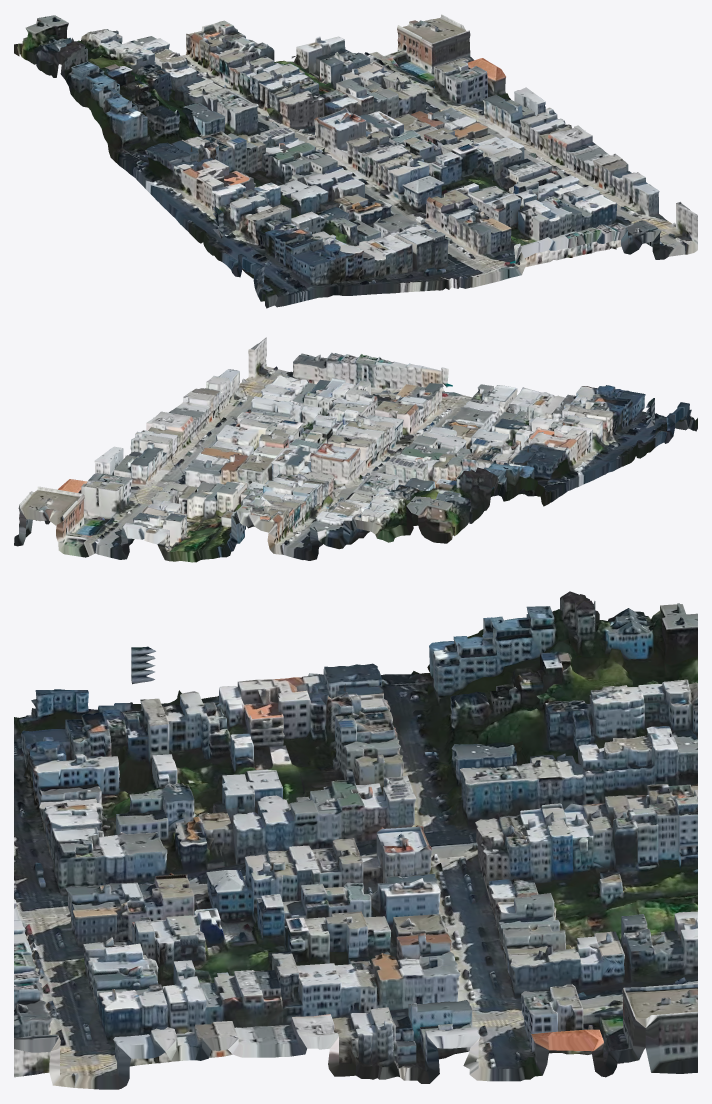
Rendered from z17-20966-50650-h0-yup-uvflip-v3-world.glb.
3 renders of one model, top to bottom at view 1: azimuth 30°, elevation 25°; view 2: azimuth 150°, elevation 25°; view 3: azimuth 270°, elevation 25°, orthographic. The views are drawn at different scales.
Size of the model in its own units: 242 by 84.8 by 243.
Materials: 1 (1 with a texture image).
